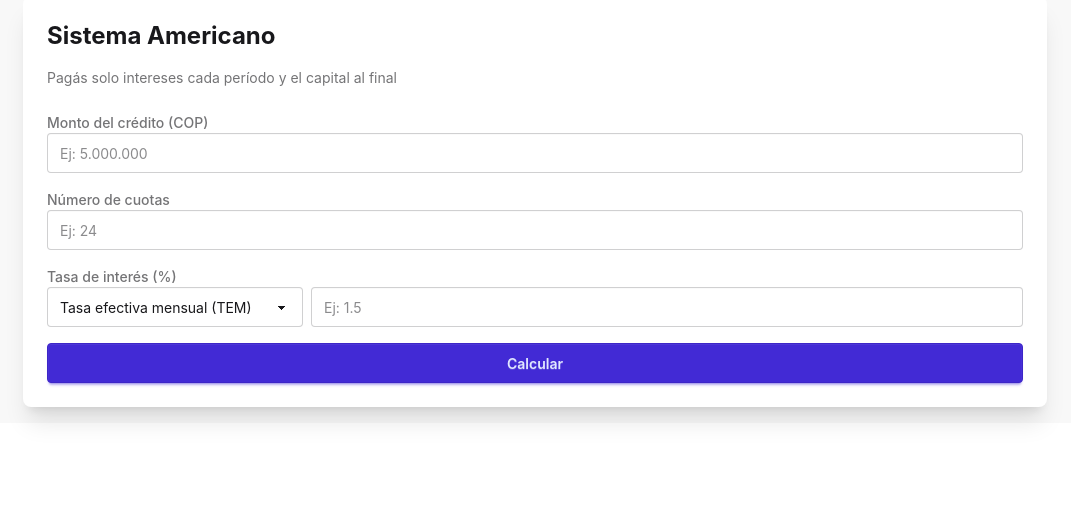
Test: AmericanCreditCalculator › validation › shows an error when amount is missing
Type "12" into the number field with placeholder "Ej: 24" at (535, 230), box [47,210,1023,250]
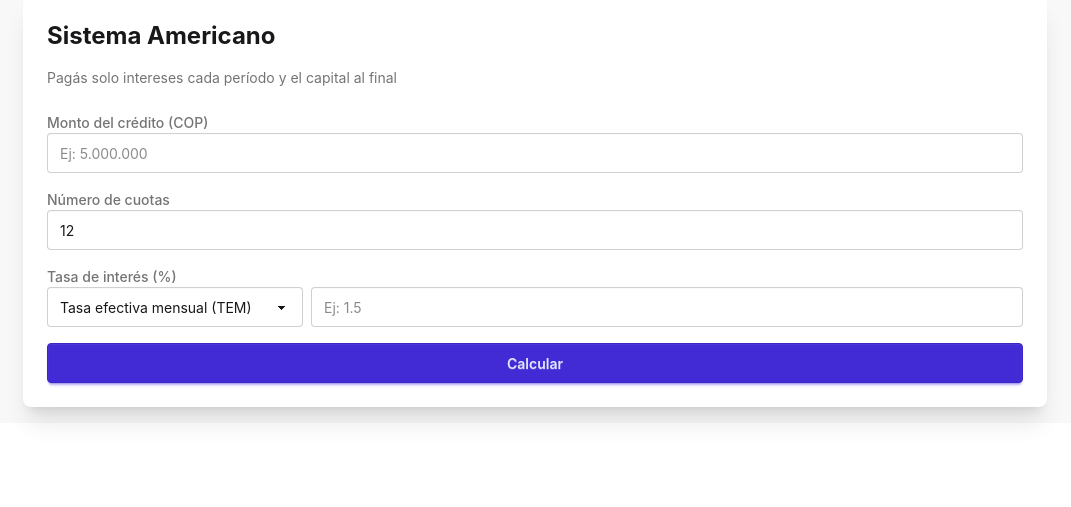
Type "1.5" into the number field with test id "rate-input" at (667, 307), box [311,287,1023,327]
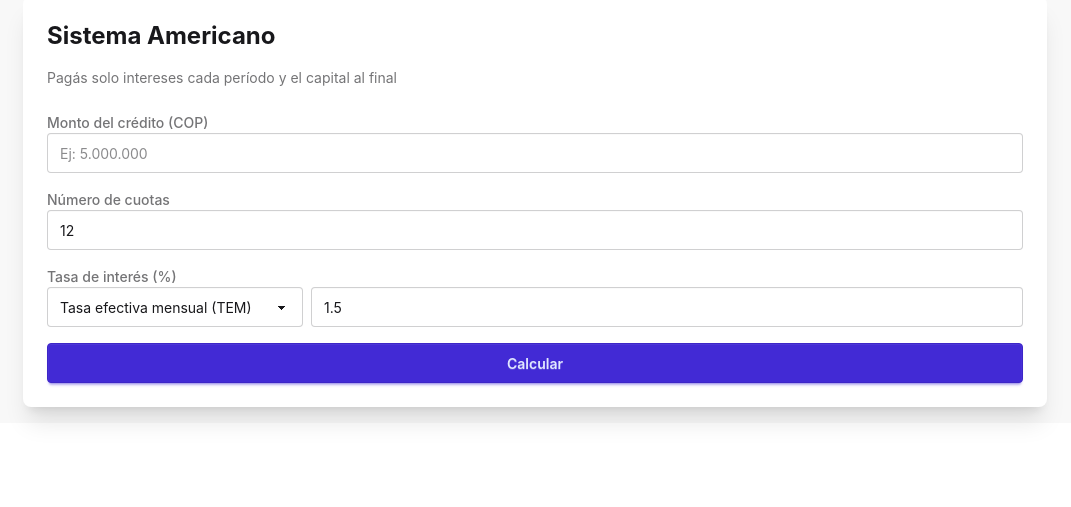
Click the button with test id "calculate-btn" at (535, 363), box [47,343,1023,383]
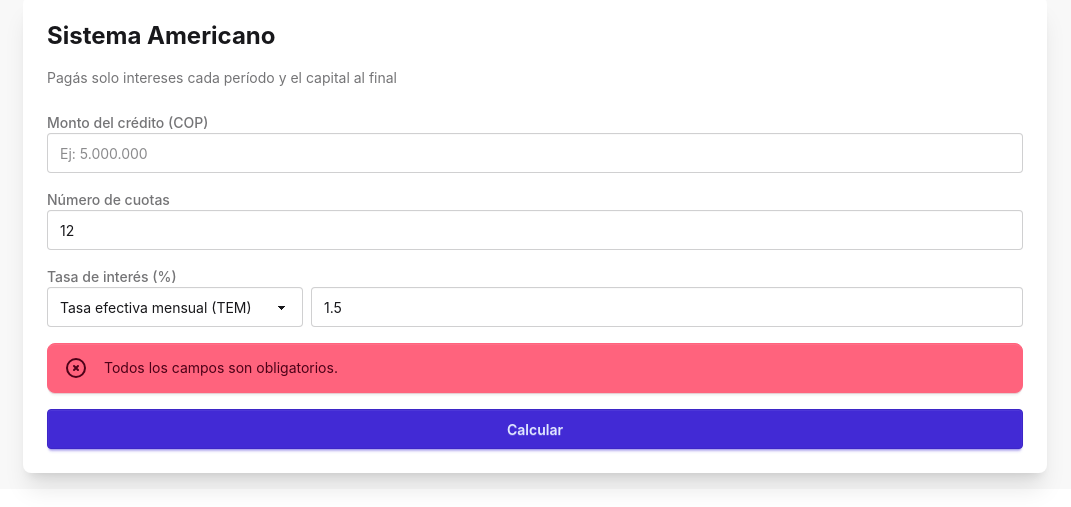
Now the message "Todos los campos son obligatorios." is shown, box [47,343,1023,393]
